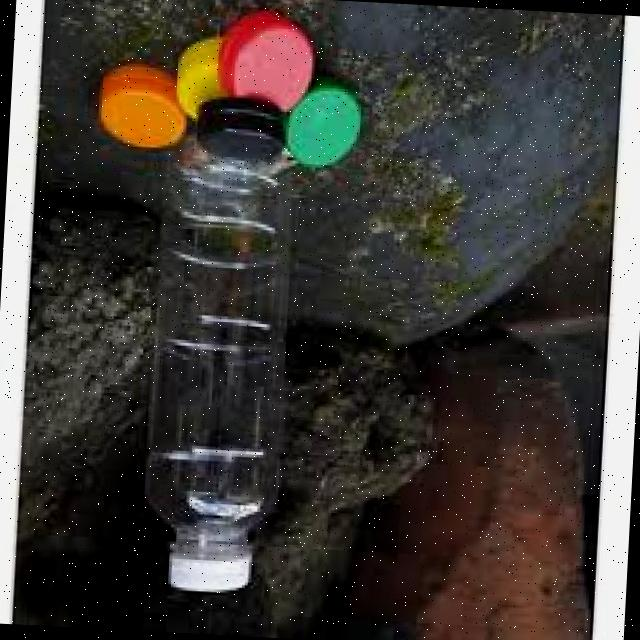bottle: (132, 121, 376, 612)
cap: (215, 10, 323, 101), (93, 70, 181, 154), (196, 102, 290, 166), (286, 90, 364, 165), (160, 549, 260, 597)
